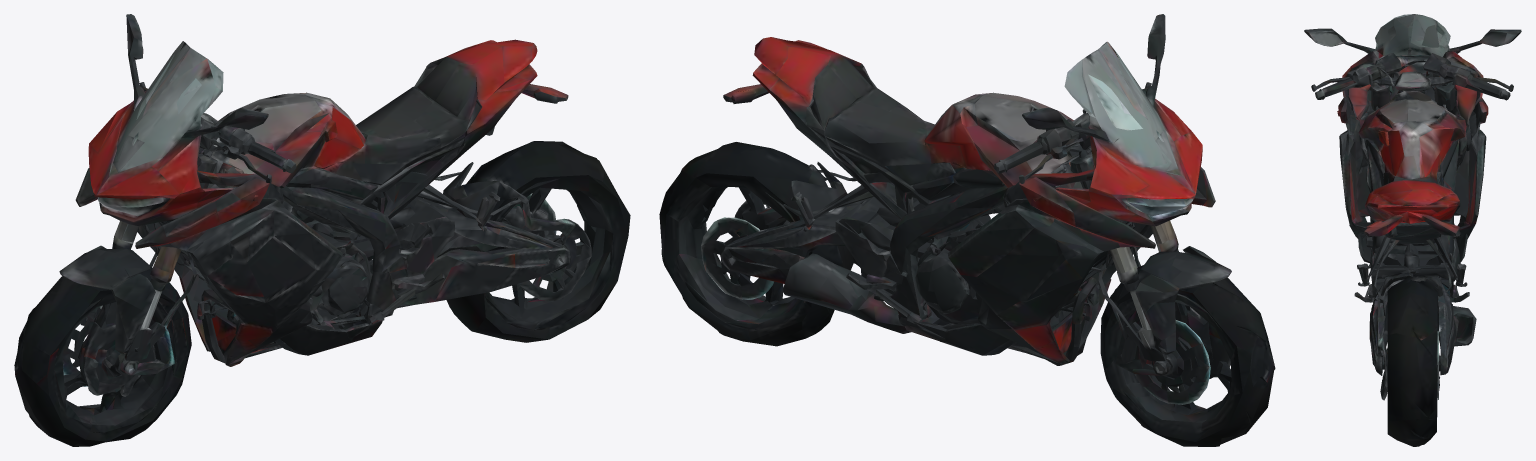
The model's file is mx_veh_hoverbike.glb.
3 views of the same model, side by side, from view 1: azimuth 30°, elevation 25°; view 2: azimuth 150°, elevation 25°; view 3: azimuth 270°, elevation 25° (orthographic). The views are drawn at different scales.
Bounding box in the file's own units: 1.9 × 1.12 × 0.7534.
1 material, 1 textured.
